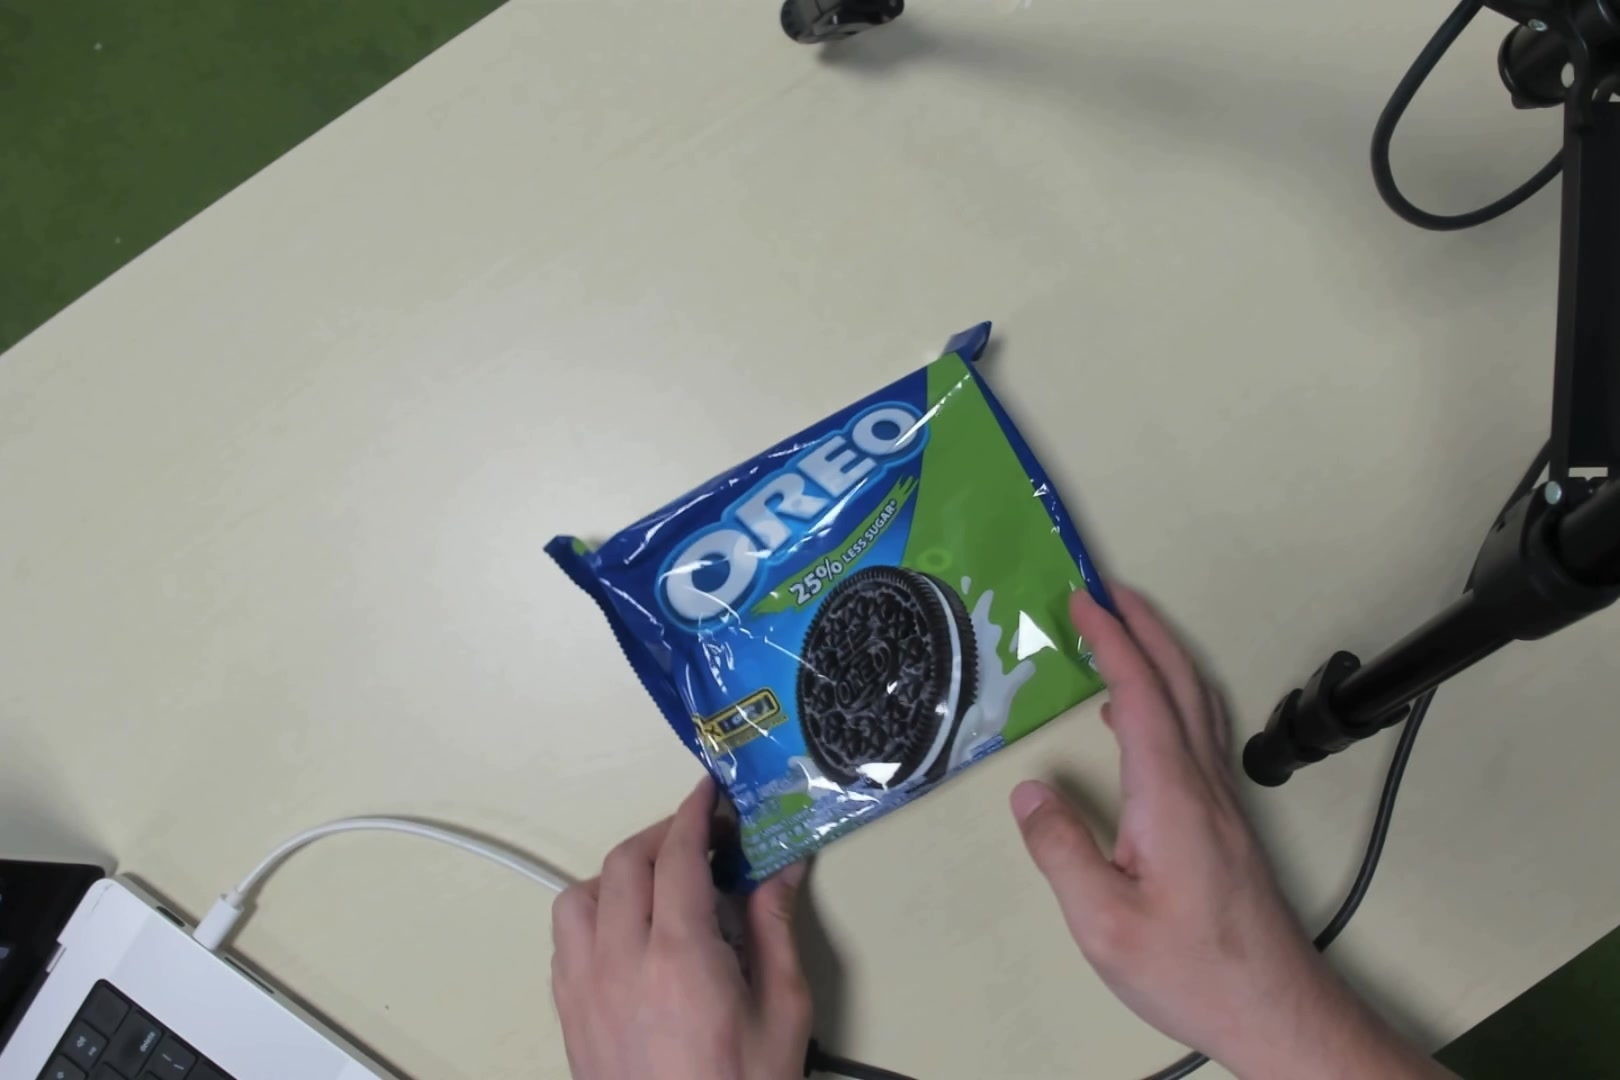SweetsChocolatesOthers_200-299g_Halal_NonHealthy: (629, 385, 1066, 835)
